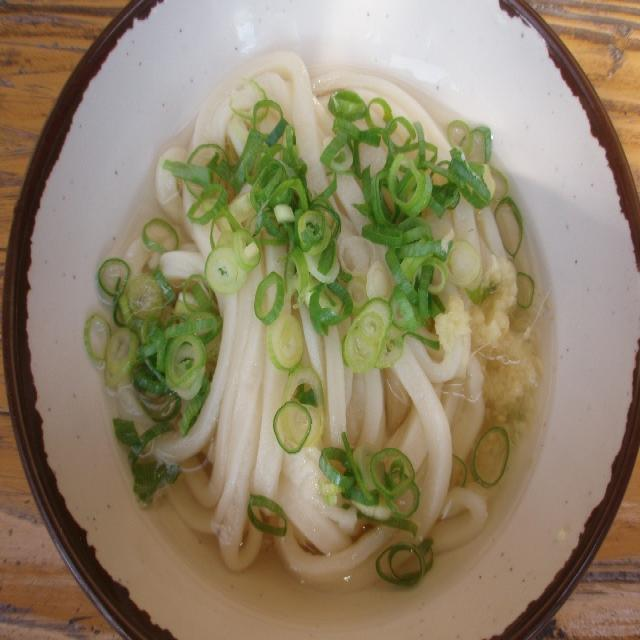面条主食: (82, 10, 568, 640)
